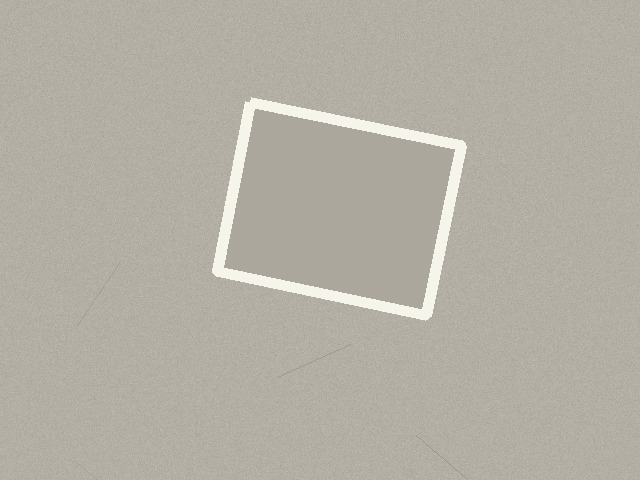parking_area: (217, 102, 461, 315)
